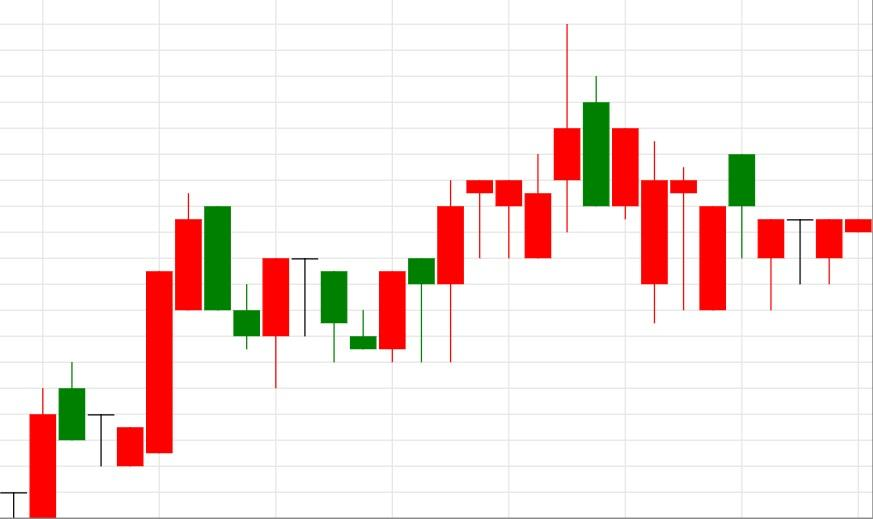bullish_engulfing_rise: (174, 192, 291, 388), (290, 257, 407, 363)
hanging_man_fall: (349, 258, 435, 363)
